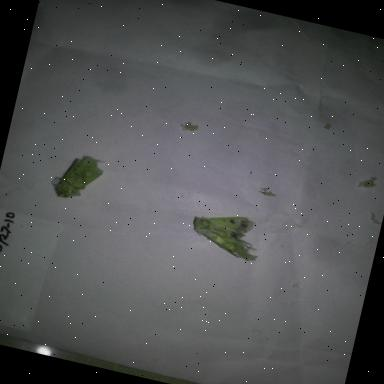abw: (179, 201, 272, 270), (42, 143, 114, 213)
